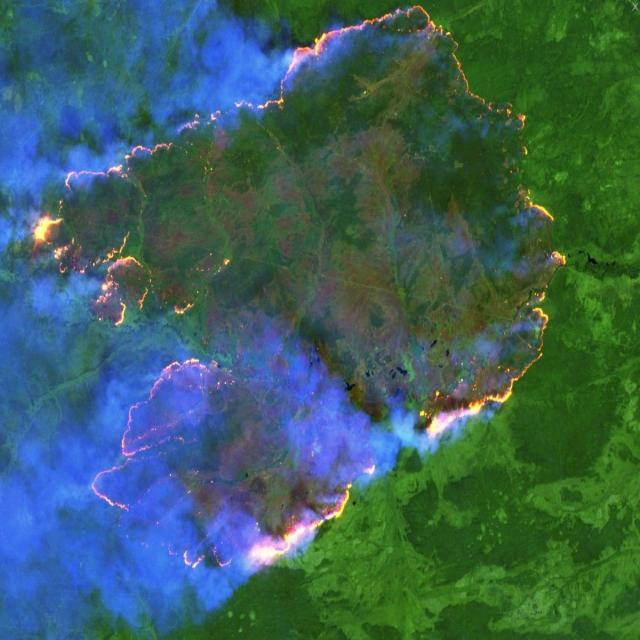fire: (24, 0, 576, 604)
